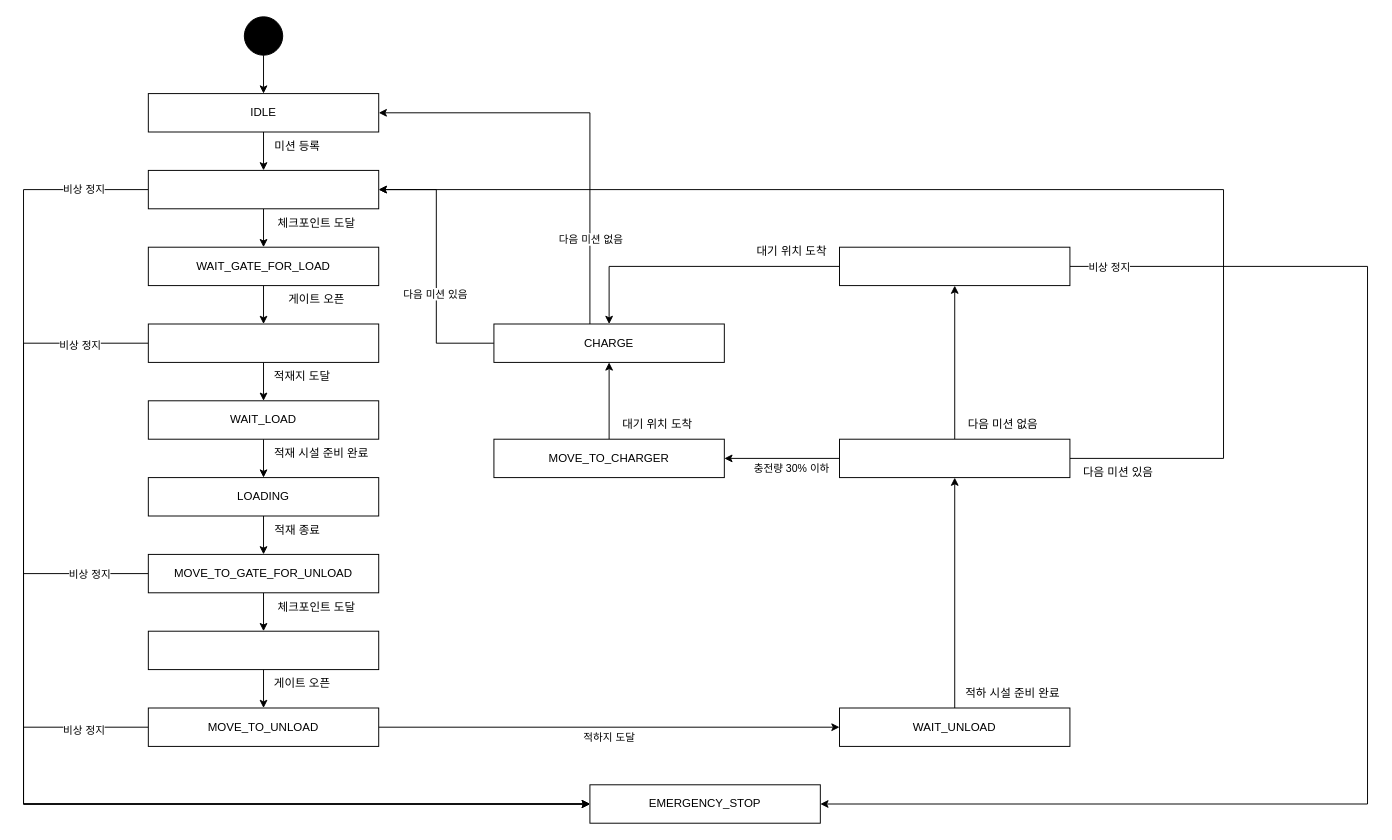
Some shapes in this 1392 by 840 pixel diagram are drawn without their labels. The shapes that lost their labels are listed below. From the top down, each one's centre as x and y in pixels, then its label:
the point at 263,189: MOVE_TO_GATE_FOR_LOAD
the point at 954,266: MOVE_TO_STANDBY
the point at 263,342: MOVE_TO_LOAD
the point at 954,458: UNLOADING
the point at 263,650: WAIT_GATE_FOR_UNLOAD
